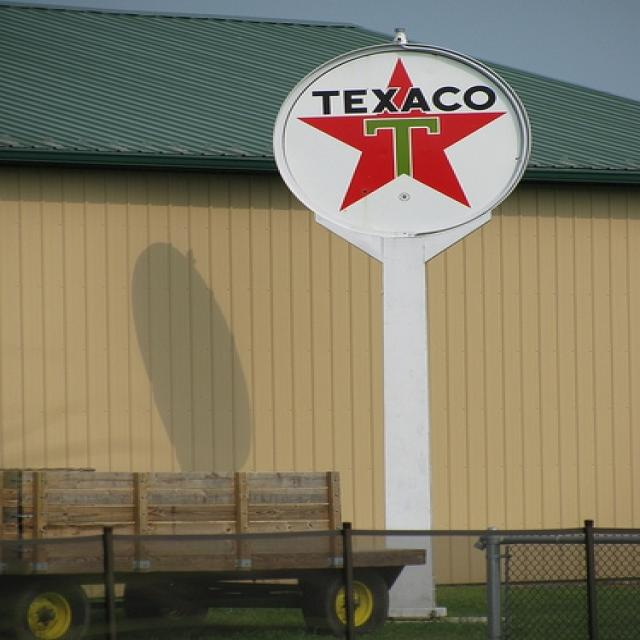texaco: (278, 47, 527, 237)
